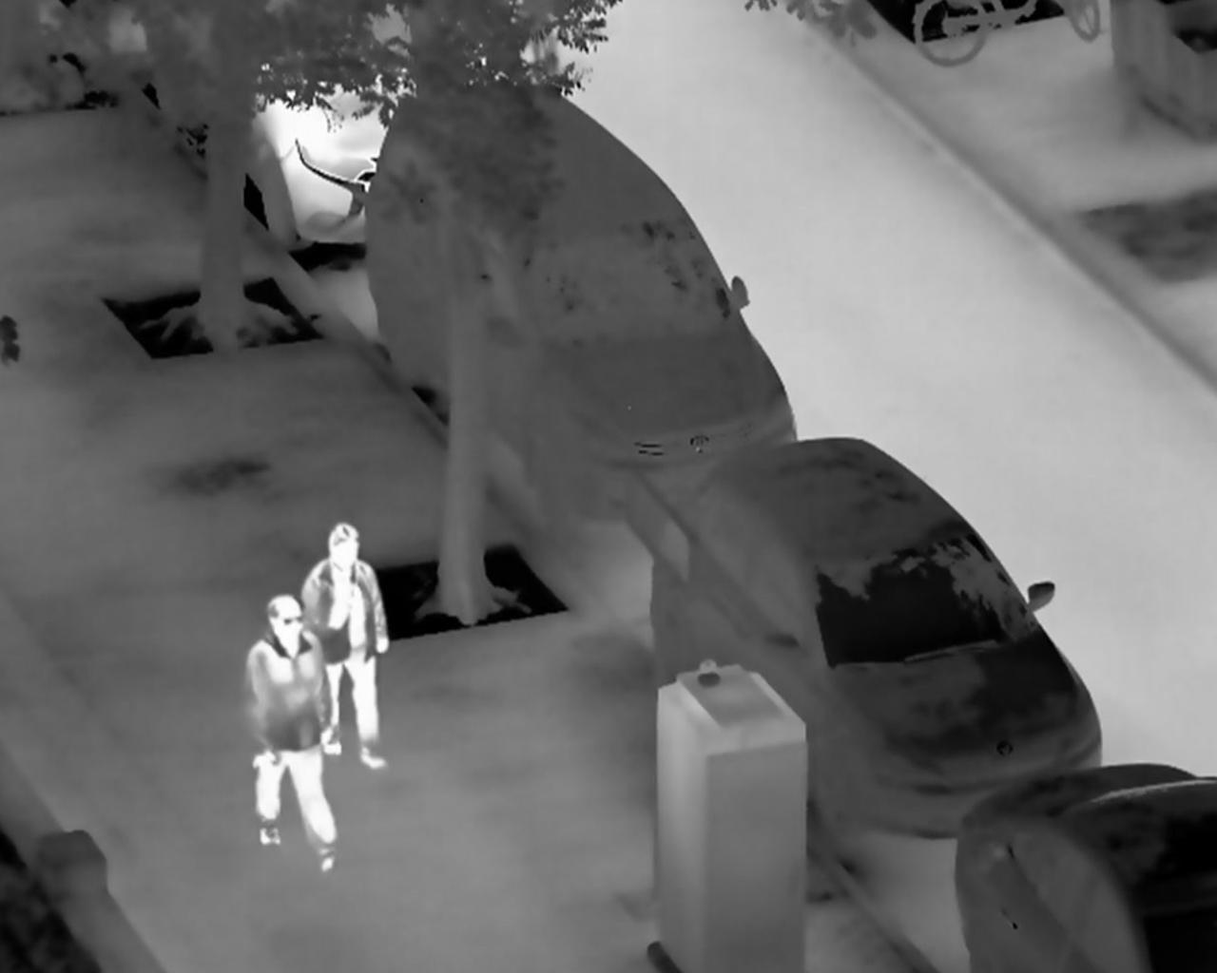person: (245, 590, 342, 873), (299, 520, 394, 772)
